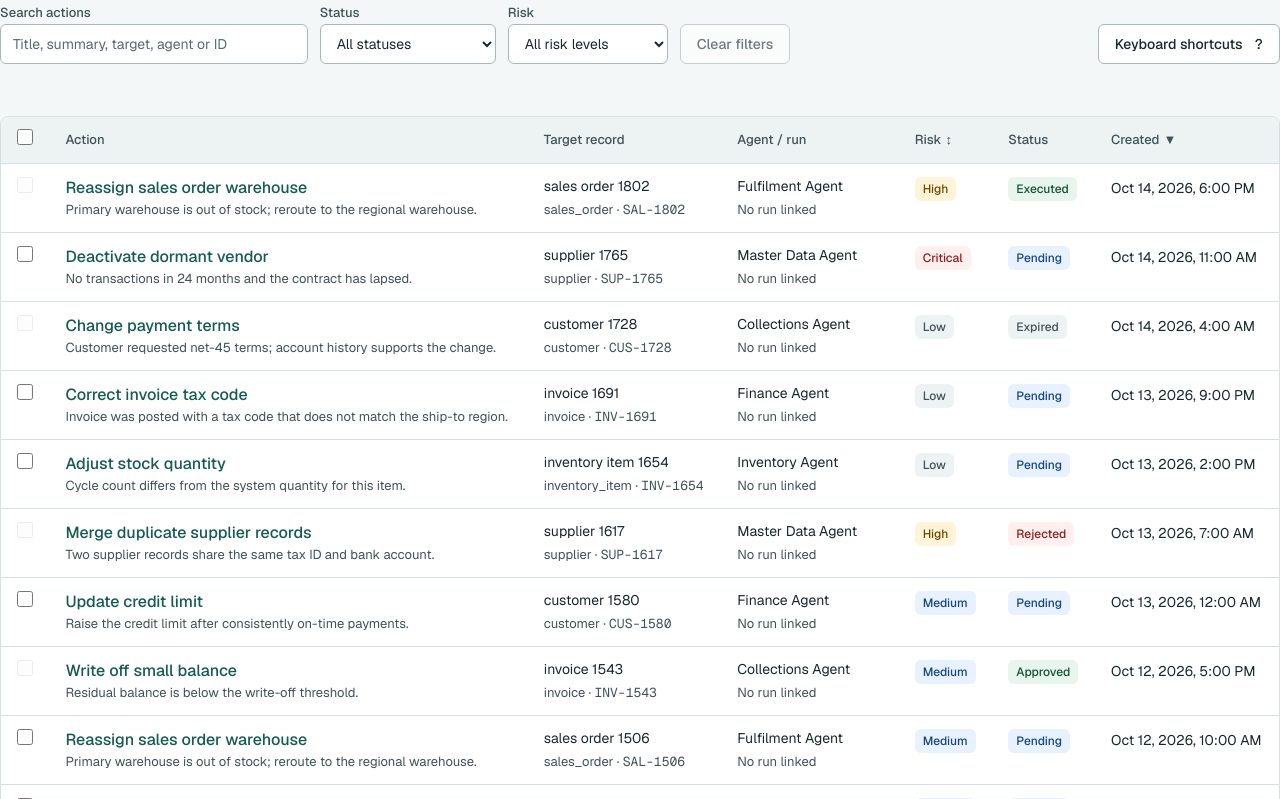
PendingActionsQueue › requires explicit confirmation when the A shortcut opens approval
Click the checkbox named "Select action:": x=25, y=254 [17, 246, 33, 262]
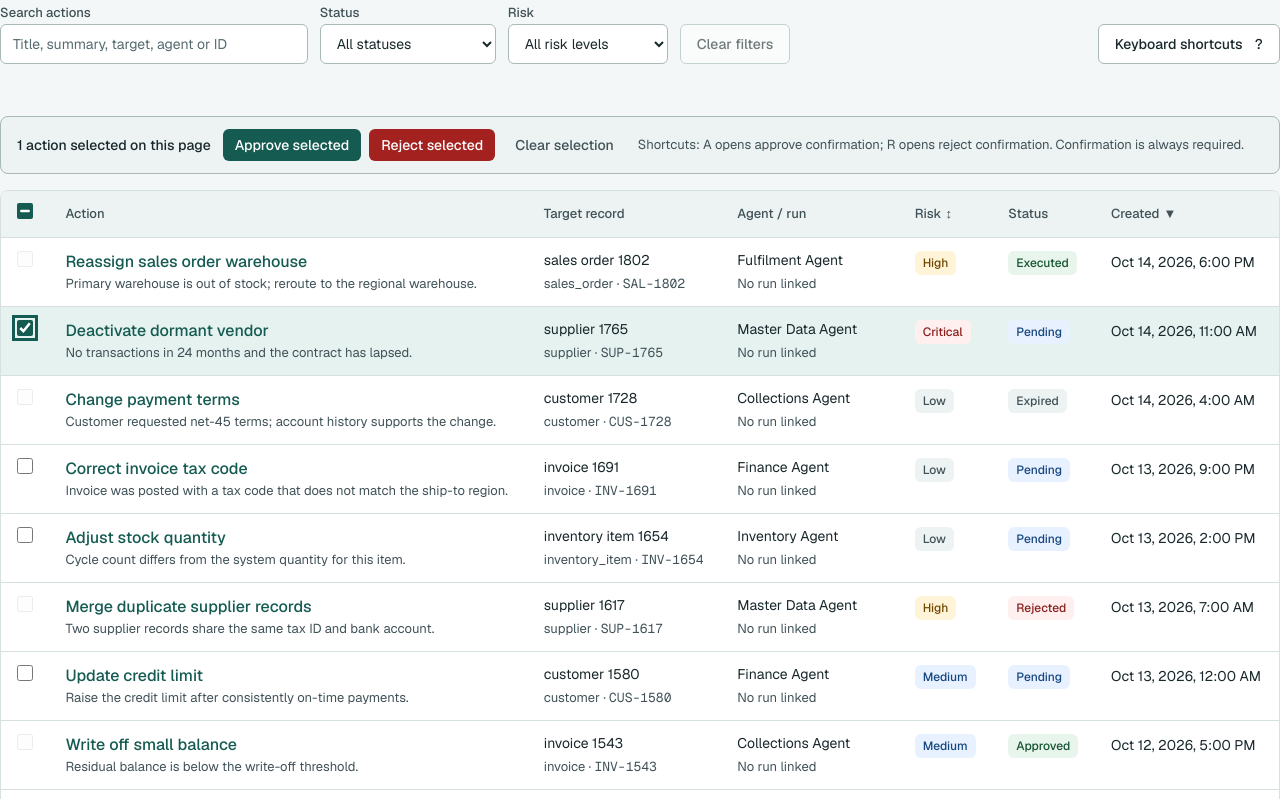
Click the checkbox named "Select action:": x=25, y=466 [17, 458, 33, 474]
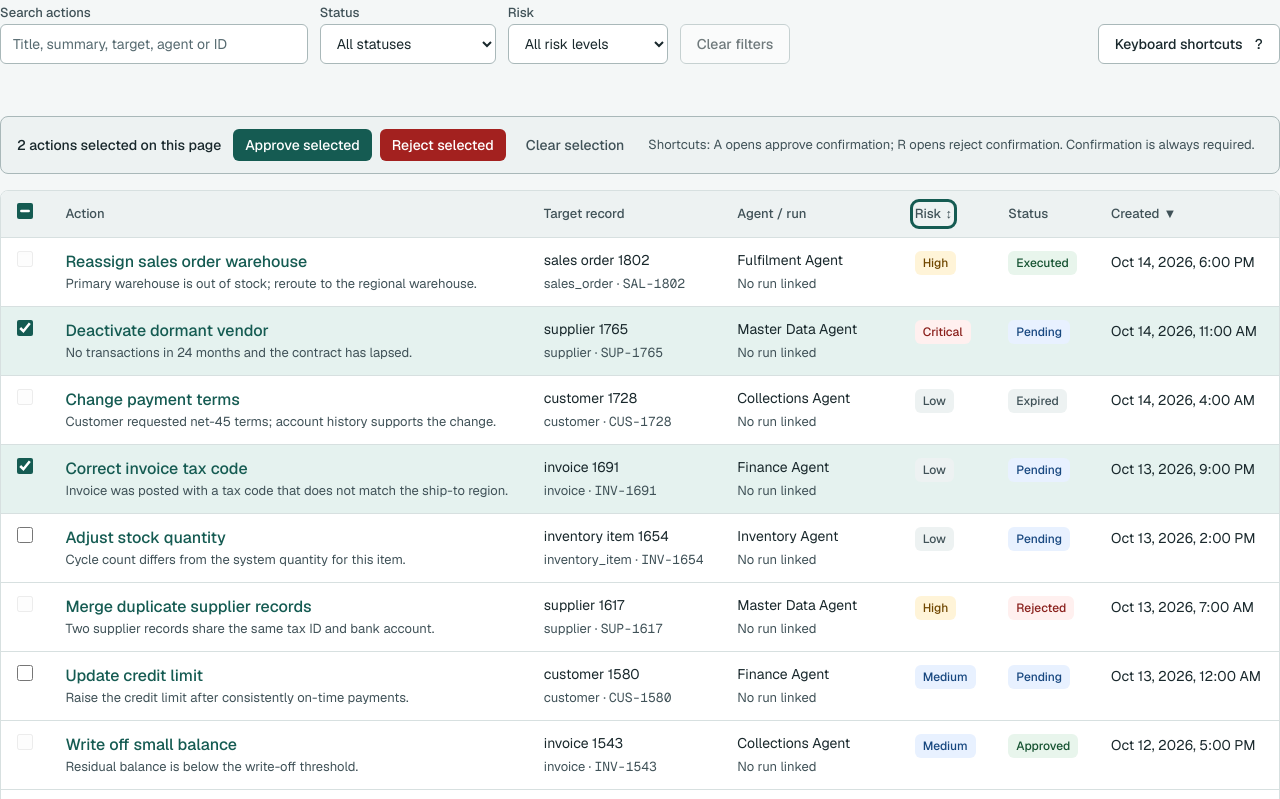
Press a in the button "Risk ↕", box [915, 204, 952, 224]
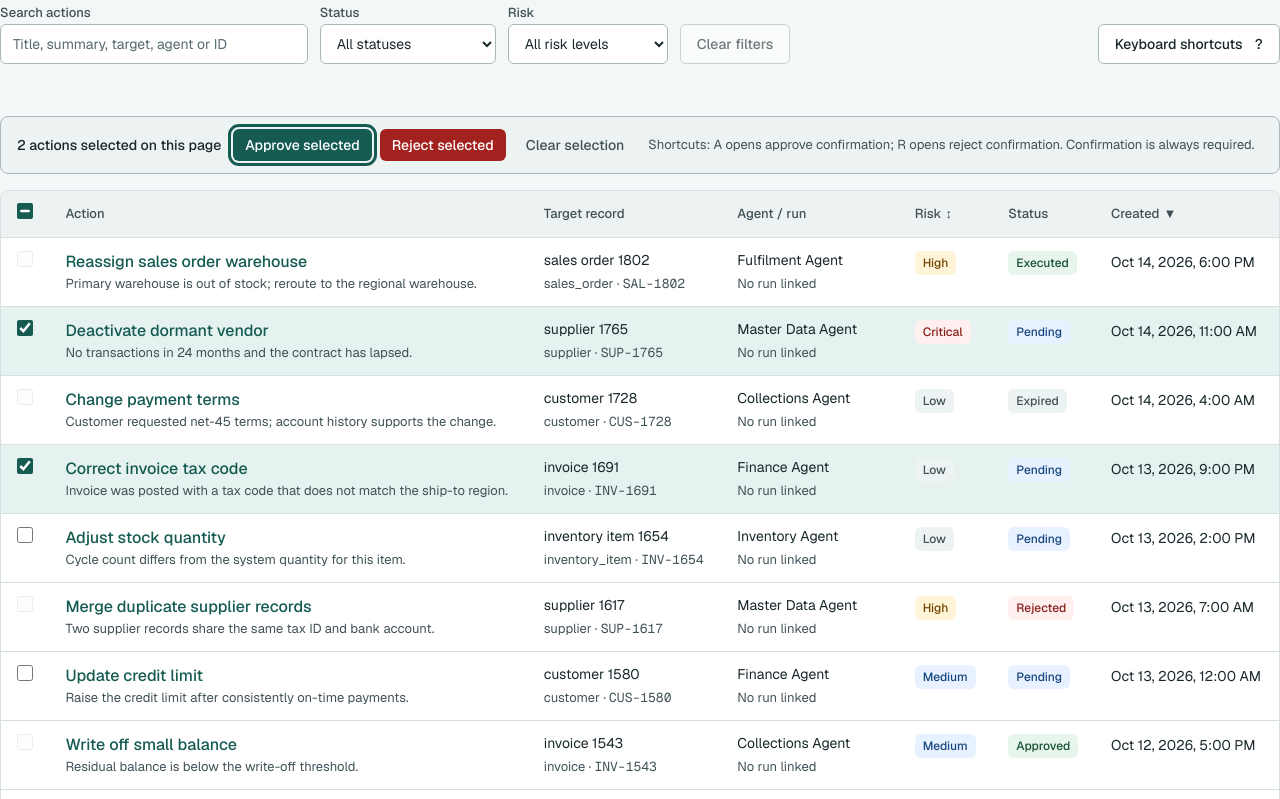
Type keys "a"
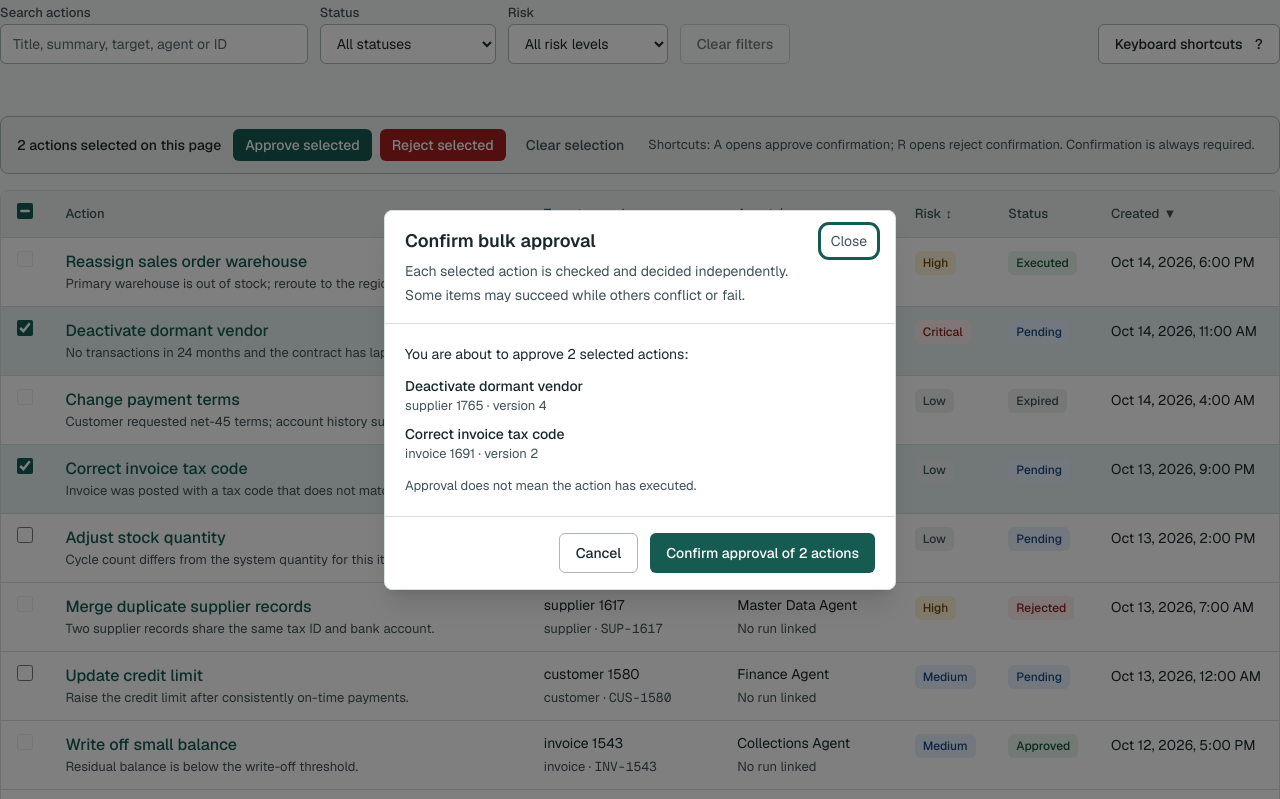
Expected: the heading "Confirm bulk approval" is shown, [405, 229, 596, 252]
Click the button "Confirm approval of 2 actions": x=763, y=553 [650, 533, 875, 573]
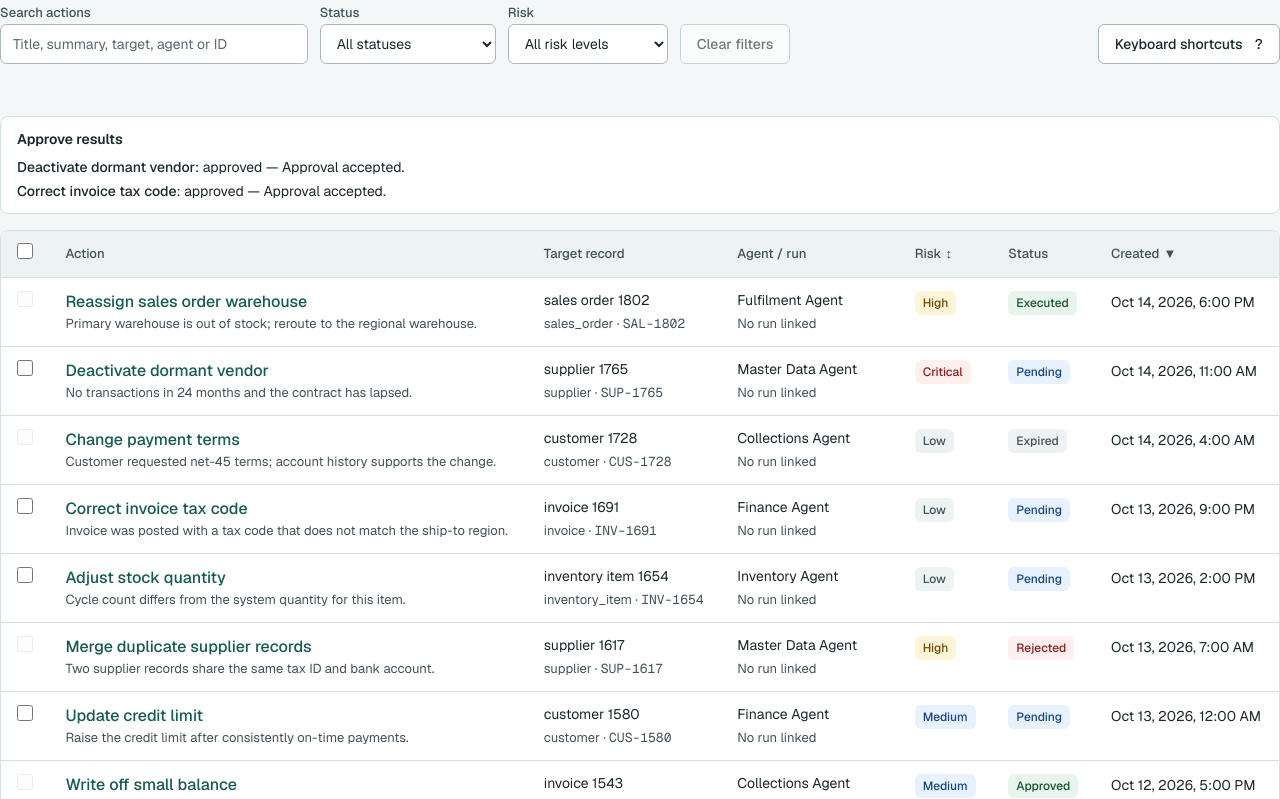
Expected: the number of list items "Deactivate dormant vendor: approved — Approval accepted." is 2, [17, 158, 404, 176]; [17, 182, 386, 200]
Expected: the element named "Bulk decision results" is shown, [0, 116, 1279, 214]
Expected: the text "selected on this page" is gone
